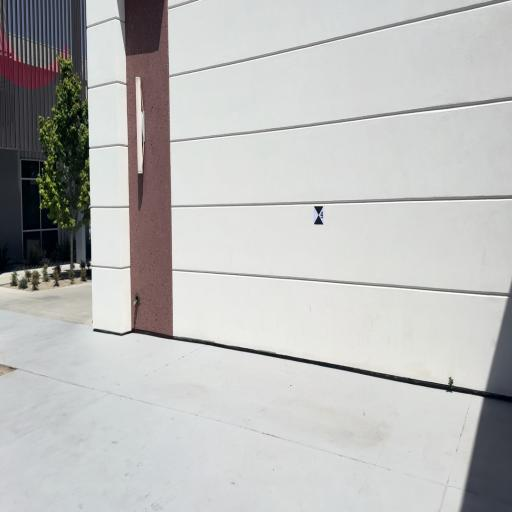target4: (314, 206, 324, 224)
